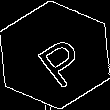P_NW: (22, 23, 88, 87)
